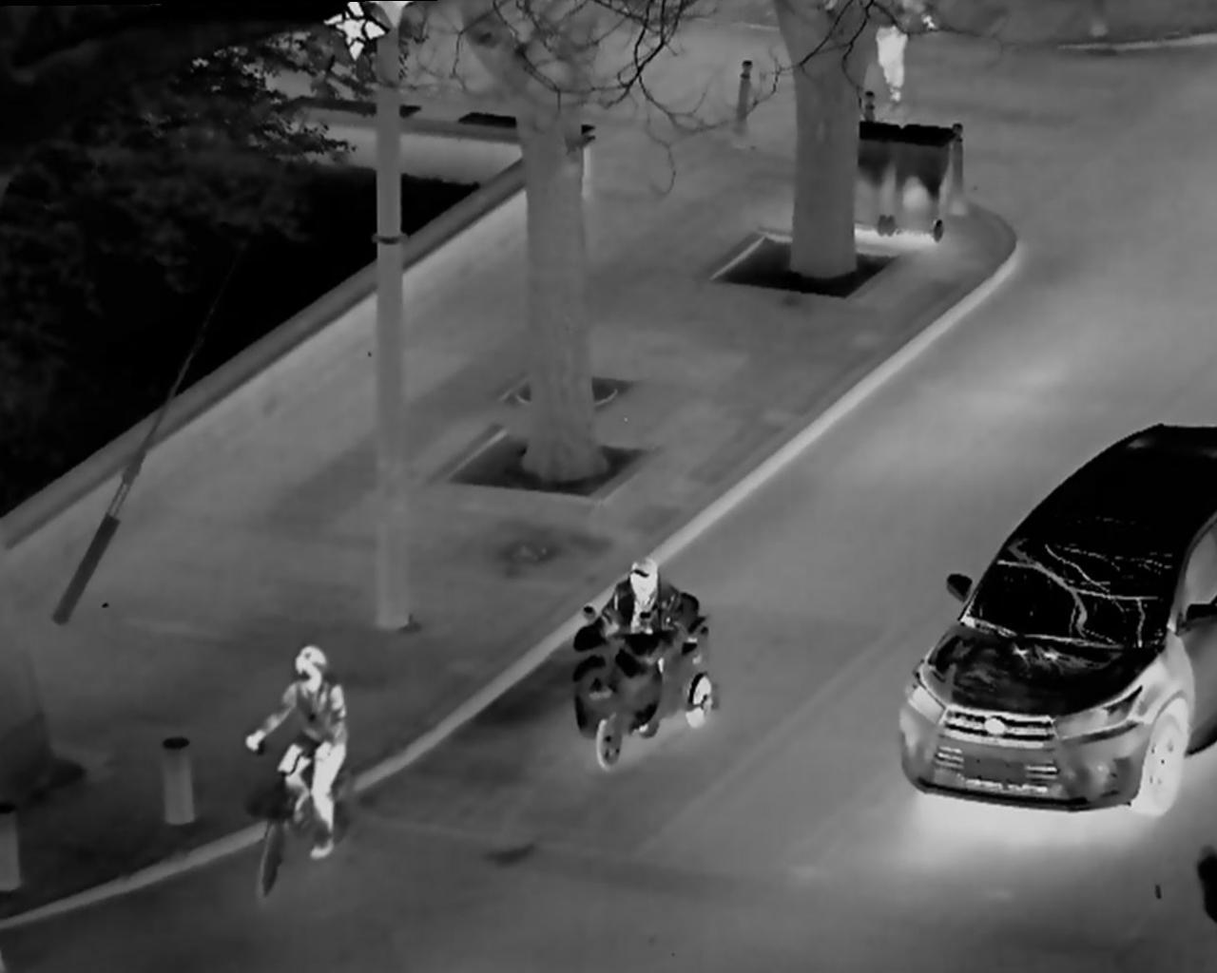person: (249, 638, 361, 868), (585, 544, 700, 744), (865, 3, 930, 106)
